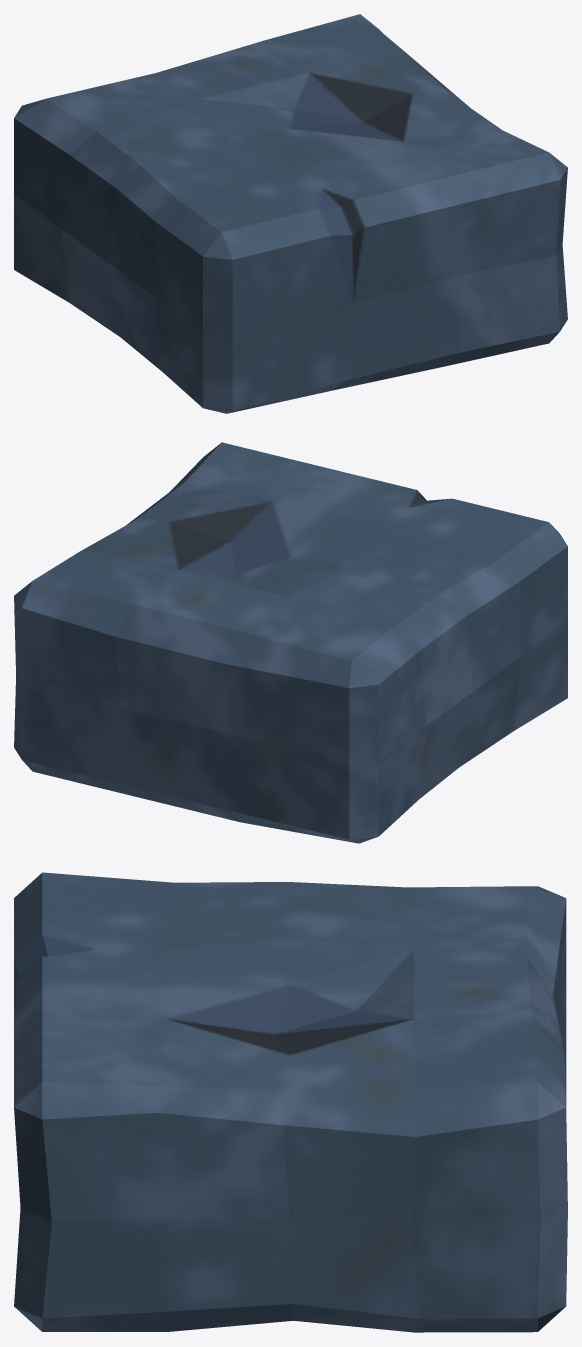
The model's file is Tetris_1.fbx.
3 renders of one model, top to bottom at view 1: azimuth 30°, elevation 25°; view 2: azimuth 150°, elevation 25°; view 3: azimuth 270°, elevation 25°, orthographic. The views are drawn at different scales.
Parts seen in each view (by area): view 1: Tetris_1; view 2: Tetris_1; view 3: Tetris_1.
Part boxes in pixels (x1,y1,x2,y2): Tetris_1: (14, 14, 567, 413); Tetris_1: (14, 442, 567, 843); Tetris_1: (14, 872, 567, 1332).
Size of the model in its own units: 406 by 204 by 401.
